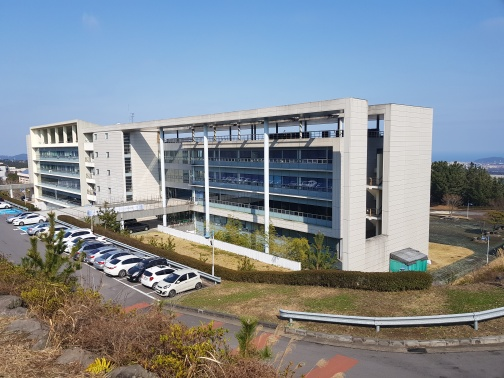Engineering College Building 4: (35, 108, 432, 218), (315, 109, 432, 281), (181, 114, 305, 265), (48, 125, 157, 208)
